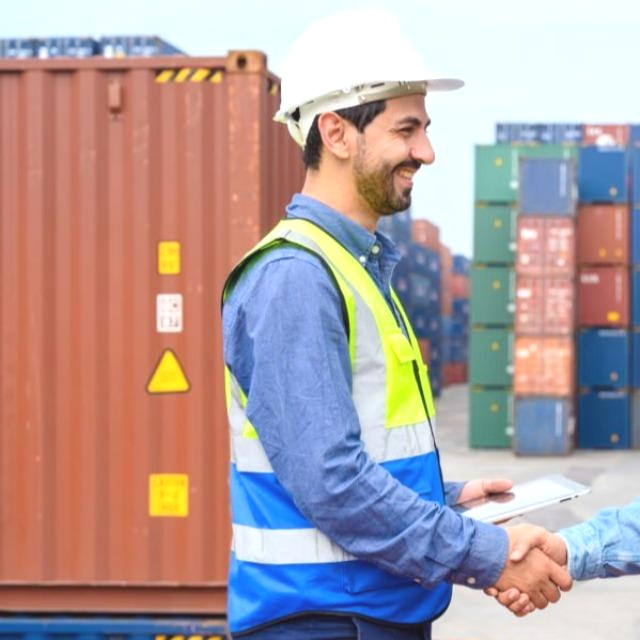Con_Casco: (276, 7, 460, 213)
Con_Chaleco: (213, 229, 462, 622)
